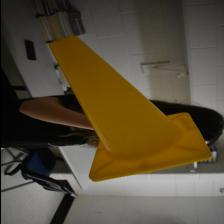cone: (48, 34, 210, 182)
